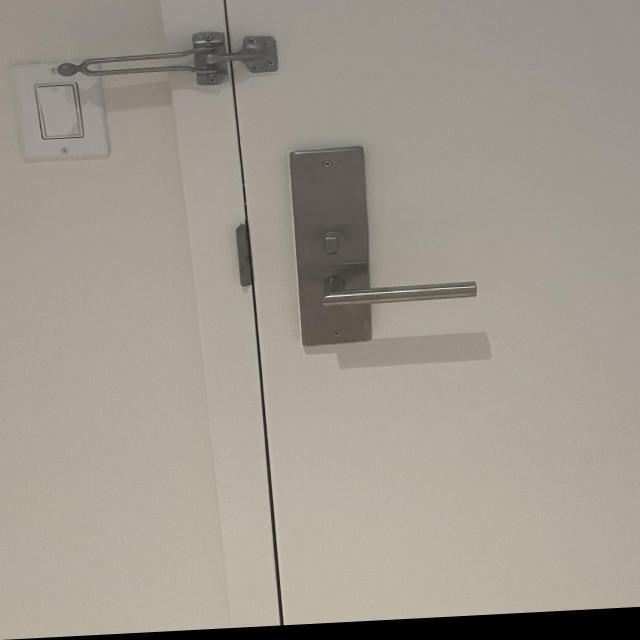door_handle: (307, 264, 492, 329)
